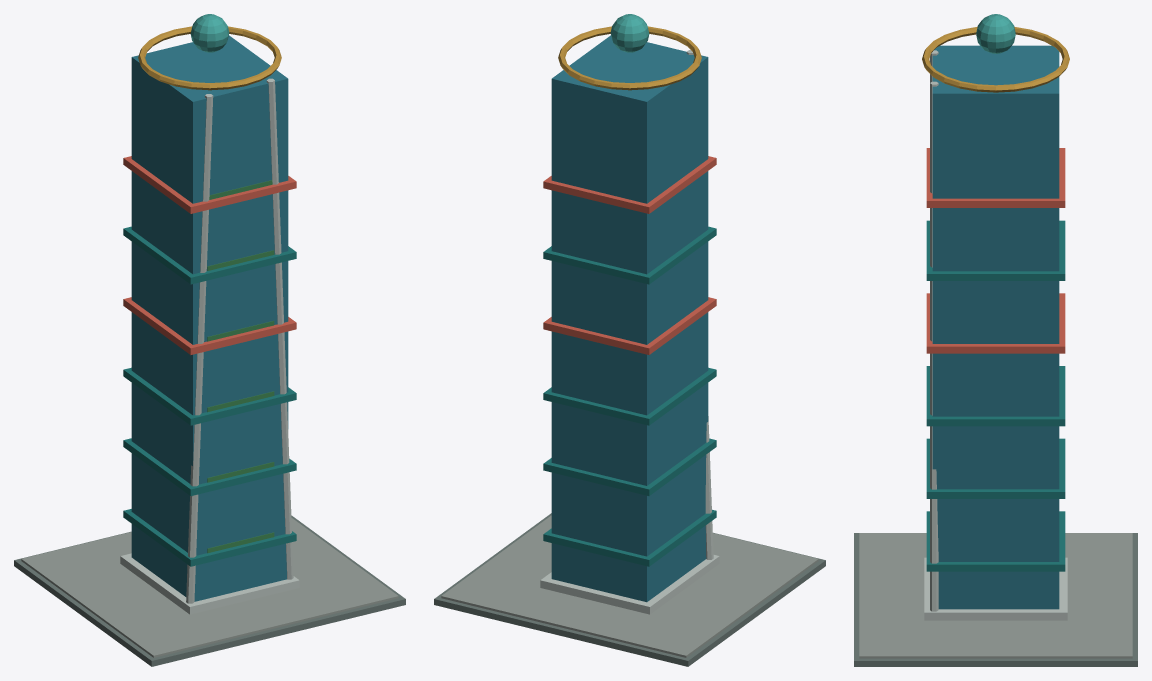
The model's file is civic_tower_lv4.glb.
3 renders of one model, left to right at view 1: azimuth 30°, elevation 25°; view 2: azimuth 150°, elevation 25°; view 3: azimuth 270°, elevation 25°, orthographic. The views are drawn at different scales.
Visible parts, largest first — view 1: glossy, rough; view 2: glossy, rough; view 3: glossy, rough.
Part boxes in pixels (bbox=[...]): glossy: bbox=[131, 35, 288, 601]; rough: bbox=[14, 14, 405, 666]; glossy: bbox=[551, 35, 708, 602]; rough: bbox=[434, 14, 825, 666]; glossy: bbox=[932, 45, 1059, 609]; rough: bbox=[854, 14, 1137, 666].
Bounding box in the file's own units: 9.8 × 21 × 9.2.
